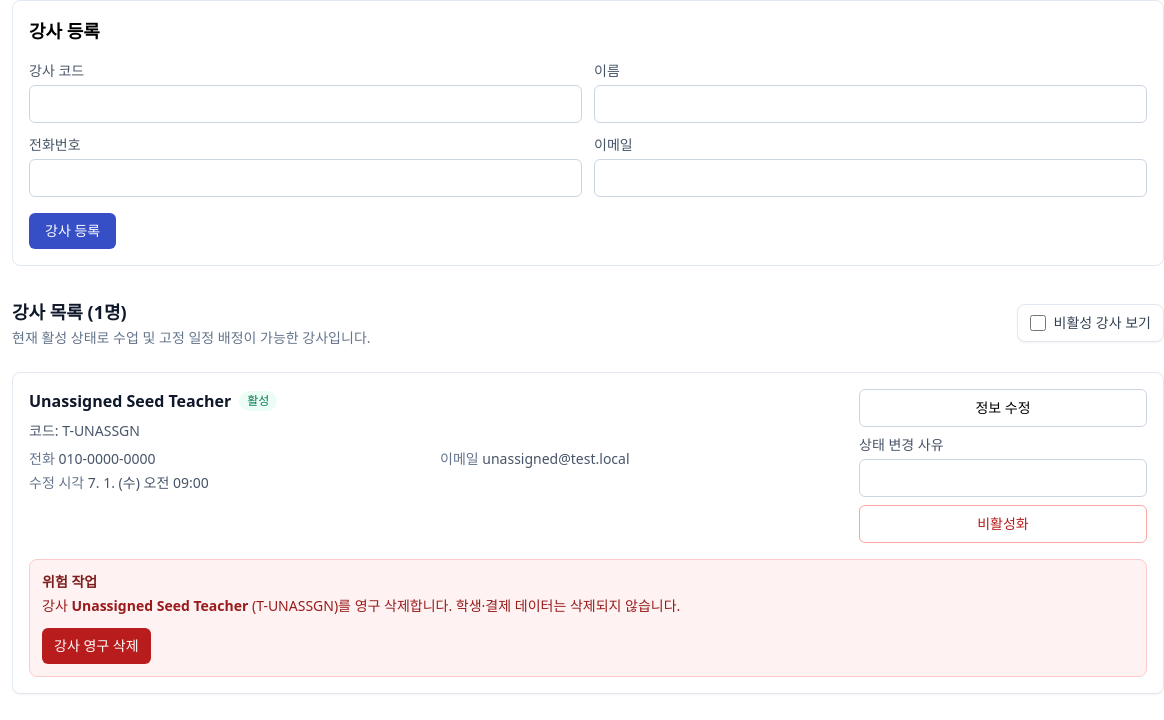
Scenario: TeachersPanel › shows blocked deactivation errors
Type "attempt blocked" into the field with test id "teacher-status-reason-T-UNASSGN" at (1003, 478), box left=859, top=459, right=1147, bottom=497
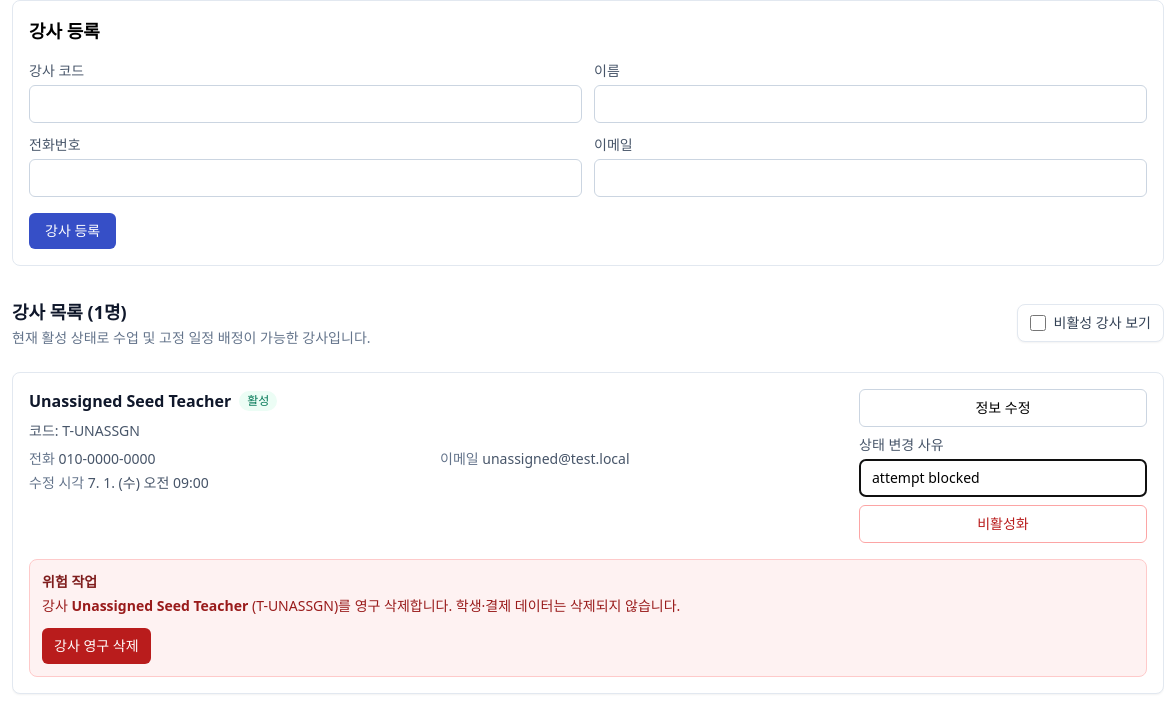
Click the button with test id "teacher-deactivate-T-UNASSGN" at (1003, 524), box left=859, top=505, right=1147, bottom=543
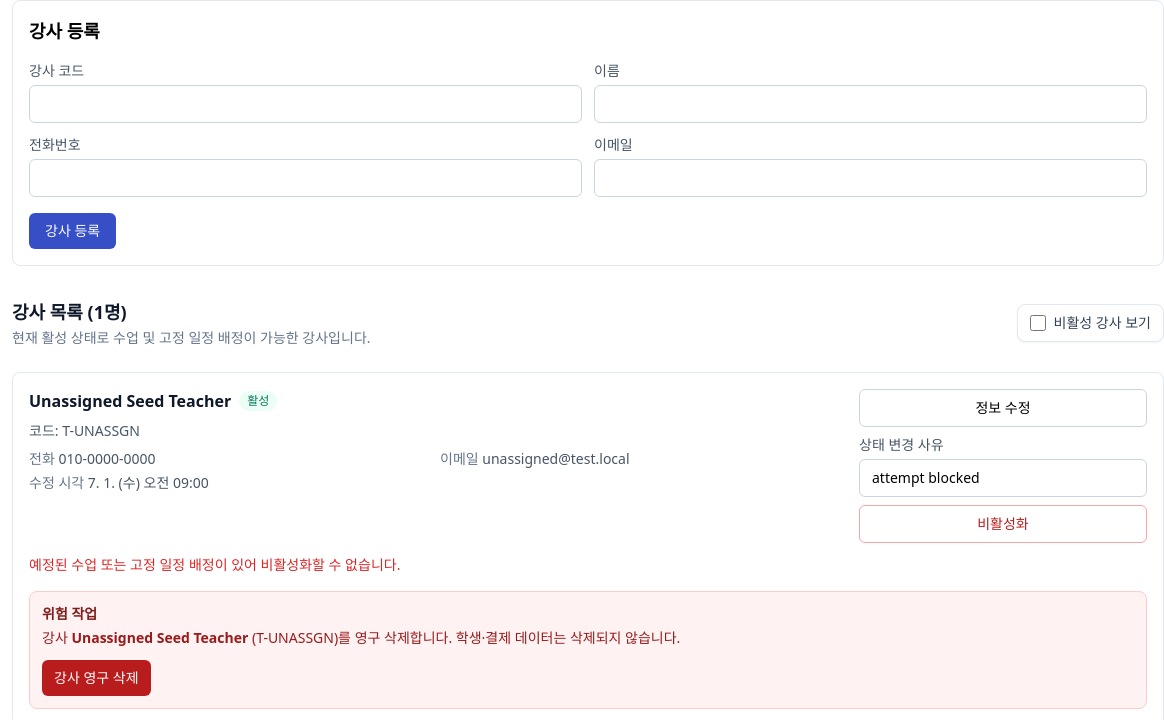
Result: the message with test id "teacher-error-T-UNASSGN" shows "배정" at left=29, top=555, right=400, bottom=574
